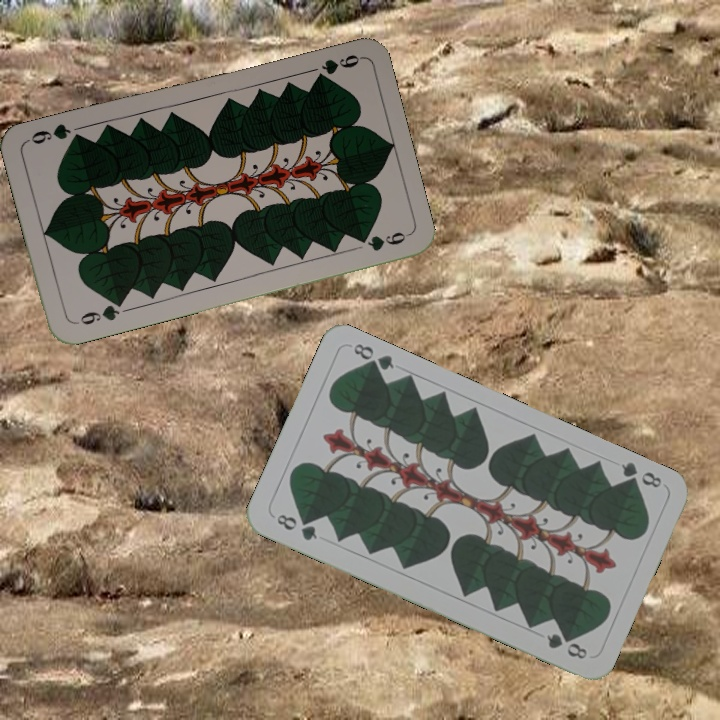G8: (272, 510, 320, 544), (617, 458, 664, 491)
G9: (71, 296, 127, 328), (312, 50, 363, 81)
